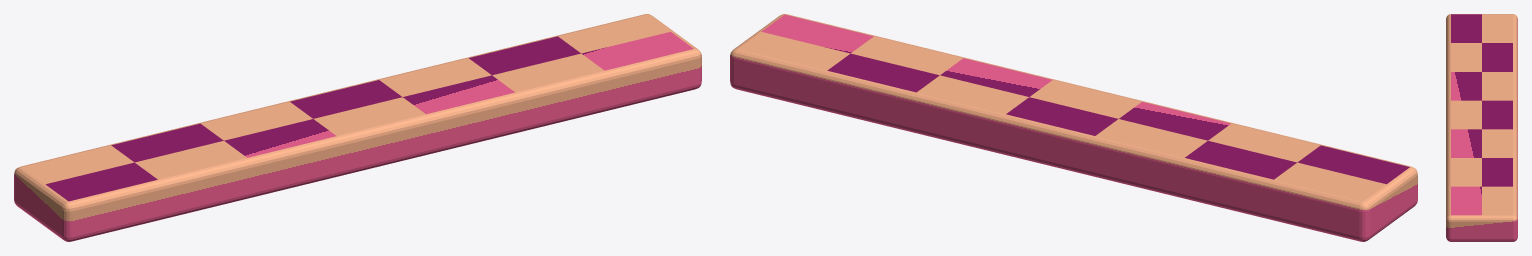
File: finish.fbx
3 renders of one model, left to right at view 1: azimuth 30°, elevation 25°; view 2: azimuth 150°, elevation 25°; view 3: azimuth 270°, elevation 25°, orthographic. The views are drawn at different scales.
Parts seen in each view (by area): view 1: Cube.011; view 2: Cube.011; view 3: Cube.011.
Part boxes in pixels (x1=…): Cube.011: x1=14, y1=14, x2=701, y2=241; Cube.011: x1=730, y1=14, x2=1417, y2=241; Cube.011: x1=1446, y1=14, x2=1517, y2=241.
Size of the model in its own units: 1349 by 80.54 by 200.
Materials: 1 (1 with a texture image).
